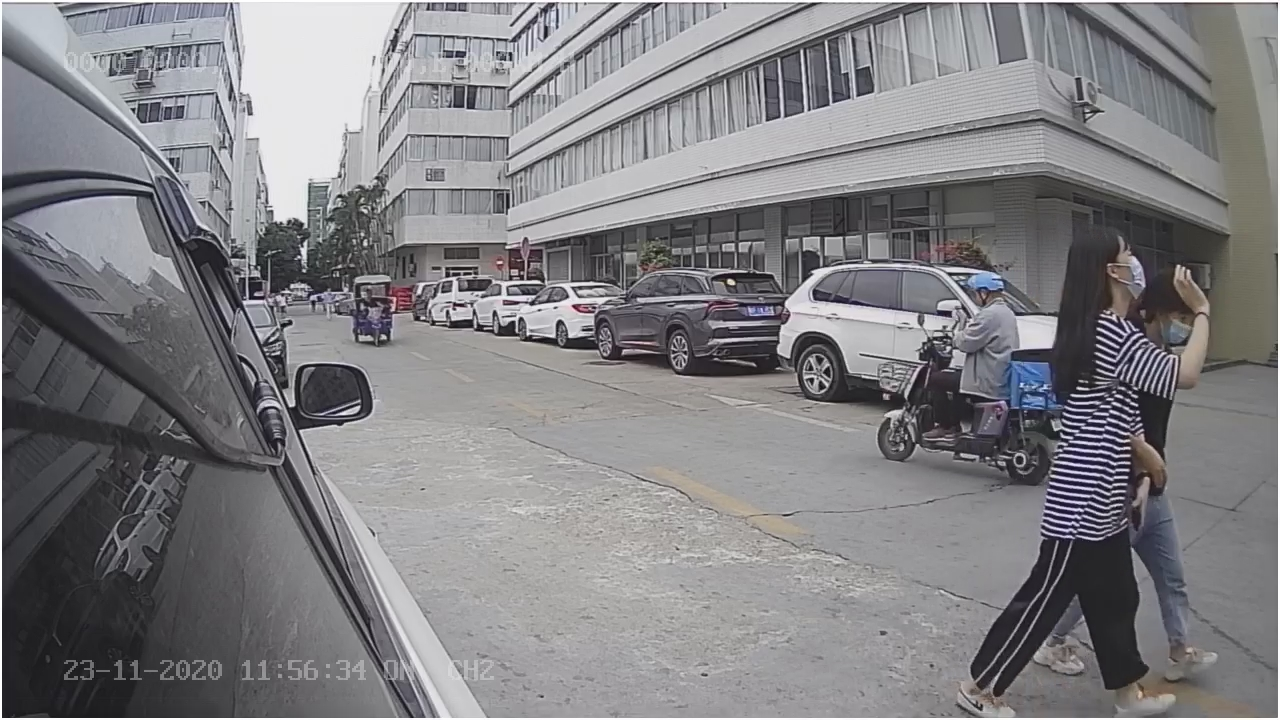person: (1018, 220, 1159, 713)
